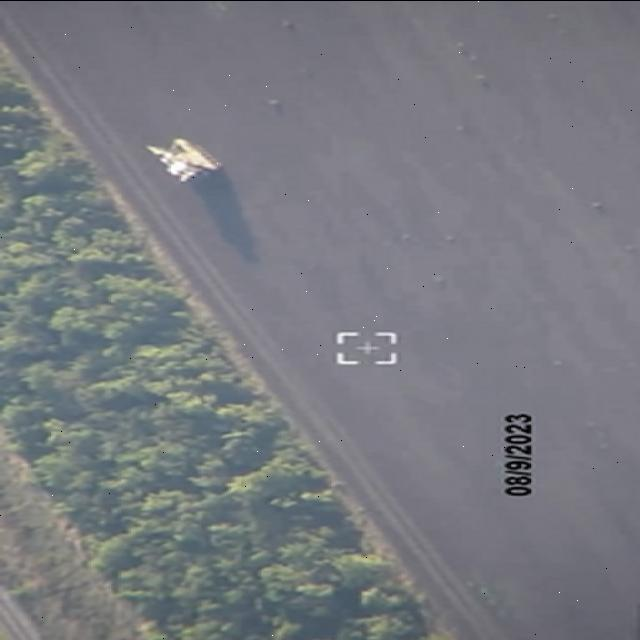ART: (140, 135, 229, 187)
